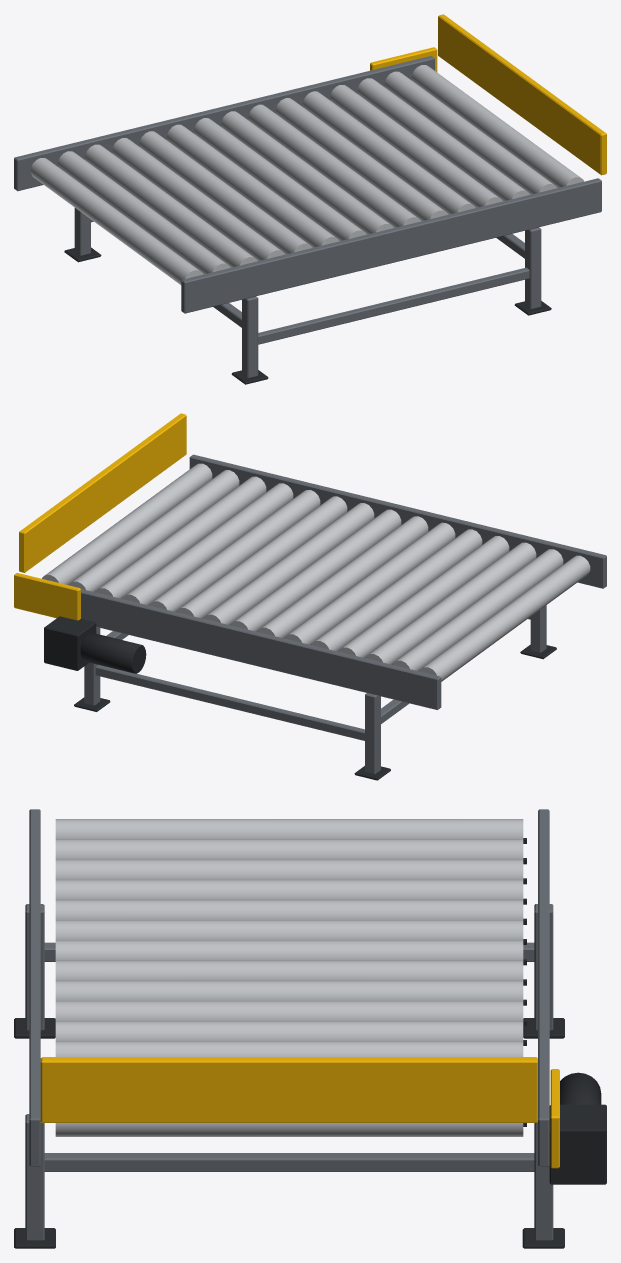
The model's file is loading_conveyor.glb.
3 views of the same model, one above another, from view 1: azimuth 30°, elevation 25°; view 2: azimuth 150°, elevation 25°; view 3: azimuth 270°, elevation 25° (orthographic). The views are drawn at different scales.
Visible parts, largest first — view 1: Conveyor_Static, Roller_00, Roller_08, Roller_04, Roller_13, Roller_03, Roller_02, Roller_10, Roller_06, Roller_12, Roller_01, Roller_05 (+4 smaller); view 2: Conveyor_Static, Roller_00, Roller_02, Roller_05, Roller_11, Roller_12, Roller_06, Roller_07, Roller_09, Roller_04, Roller_08, Roller_01 (+4 smaller); view 3: Conveyor_Static, Roller_02, Roller_07, Roller_01, Roller_06, Roller_03, Roller_04, Roller_08, Roller_05, Roller_10, Roller_00, Roller_09 (+2 smaller).
Part boxes in pixels (x1,y1,x2,y2): Conveyor_Static: (14, 14, 606, 384); Roller_00: (31, 158, 202, 284); Roller_08: (248, 104, 420, 227); Roller_04: (139, 131, 311, 254); Roller_13: (384, 71, 556, 194); Roller_03: (112, 138, 284, 260); Roller_02: (85, 144, 257, 267); Roller_10: (303, 91, 474, 214); Roller_06: (194, 118, 366, 241); Roller_12: (357, 78, 529, 201); Roller_01: (58, 151, 230, 274); Roller_05: (167, 124, 338, 247); Conveyor_Static: (14, 413, 606, 780); Roller_00: (419, 555, 590, 681); Roller_02: (365, 542, 536, 664); Roller_05: (284, 522, 455, 644); Roller_11: (122, 483, 293, 605); Roller_12: (95, 476, 266, 598); Roller_06: (257, 516, 428, 638); Roller_07: (230, 509, 401, 631); Roller_09: (176, 496, 347, 618); Roller_04: (311, 529, 482, 651); Roller_08: (203, 503, 374, 624); Roller_01: (392, 549, 563, 671); Conveyor_Static: (14, 809, 606, 1248); Roller_02: (55, 859, 526, 884); Roller_07: (55, 960, 526, 985); Roller_01: (55, 839, 526, 864); Roller_06: (55, 940, 526, 965); Roller_03: (55, 879, 526, 904); Roller_04: (55, 899, 526, 924); Roller_08: (55, 980, 526, 1005); Roller_05: (55, 920, 526, 944); Roller_10: (55, 1021, 526, 1045); Roller_00: (55, 819, 526, 843); Roller_09: (55, 1001, 526, 1025).
Bounding box in the file's own units: 1.96 × 0.68 × 1.55.
